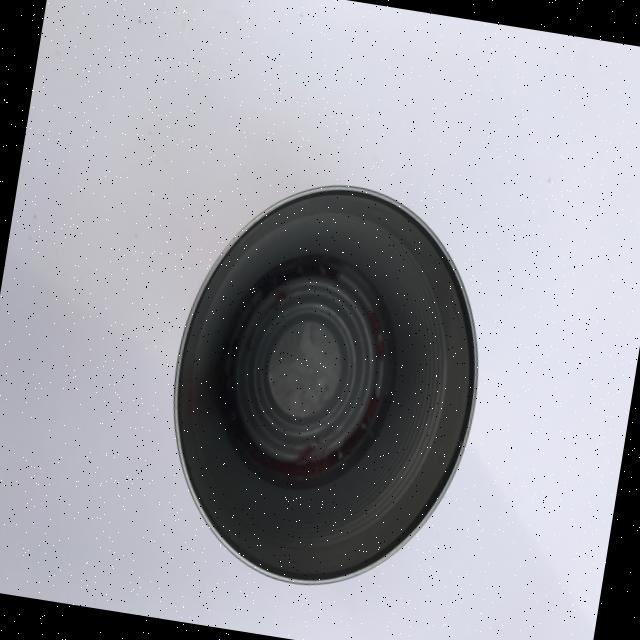metal: (145, 162, 507, 608)
